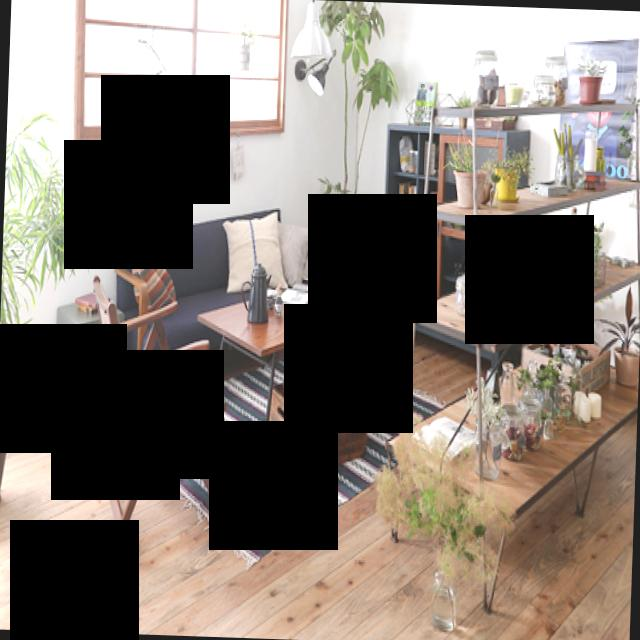vintage chair: (78, 292, 243, 576)
vintage desk: (191, 262, 421, 491)
vintage shelf: (397, 74, 640, 622)
